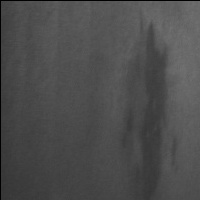inclusion: (121, 17, 174, 200)
